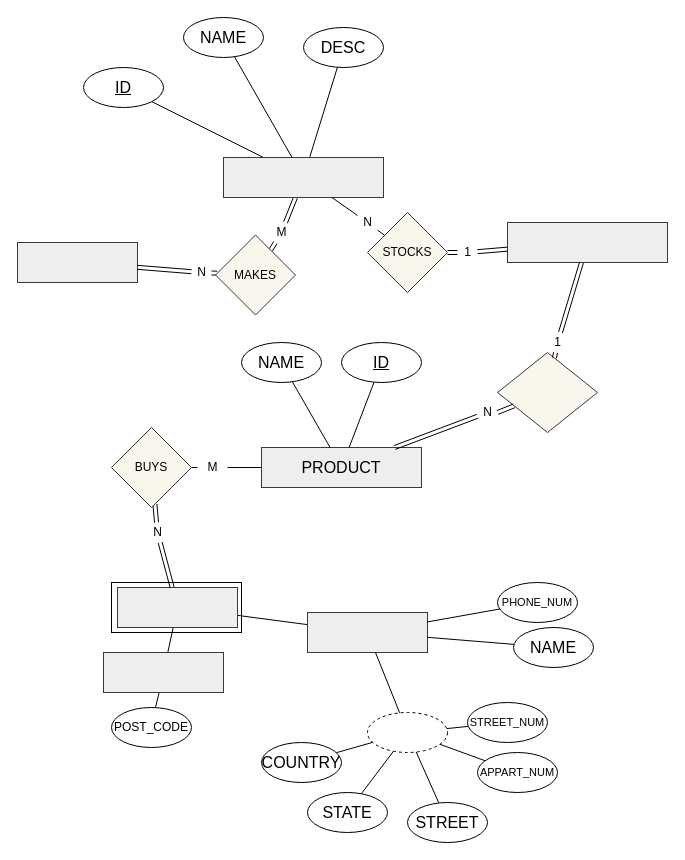
Image size: 685x860. Some labels were removed from this diagram. The centre of each missing label's shape, as x and y in pixels:
"ADDRESS" belongs at (x=407, y=732).
"ASSEMPLES" belongs at (x=547, y=392).
"COMMERCIAL" belongs at (x=367, y=632).
"COMPONENT" belongs at (x=303, y=177).
"CUSTOMER" belongs at (x=177, y=607).
"ELECTRONICS_ MANUFACTURER" belongs at (x=587, y=242).
"NON-COMMERCIAL" belongs at (x=163, y=672).
"VENDOR" belongs at (x=77, y=262).
